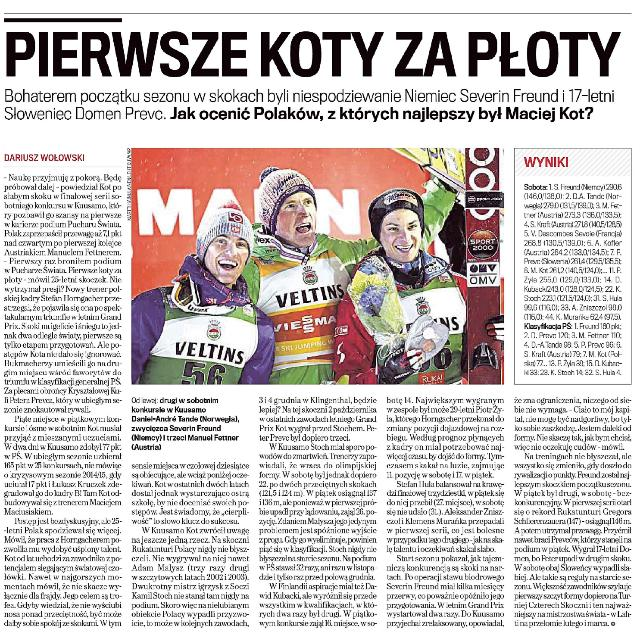author: (2, 150, 88, 162)
body: (2, 170, 126, 628), (384, 394, 508, 628), (512, 392, 634, 628), (258, 394, 380, 628), (130, 458, 252, 628)
caption: (130, 394, 246, 454)
image: (126, 144, 508, 388)
lead: (3, 86, 619, 126)
title: (2, 24, 624, 84)
